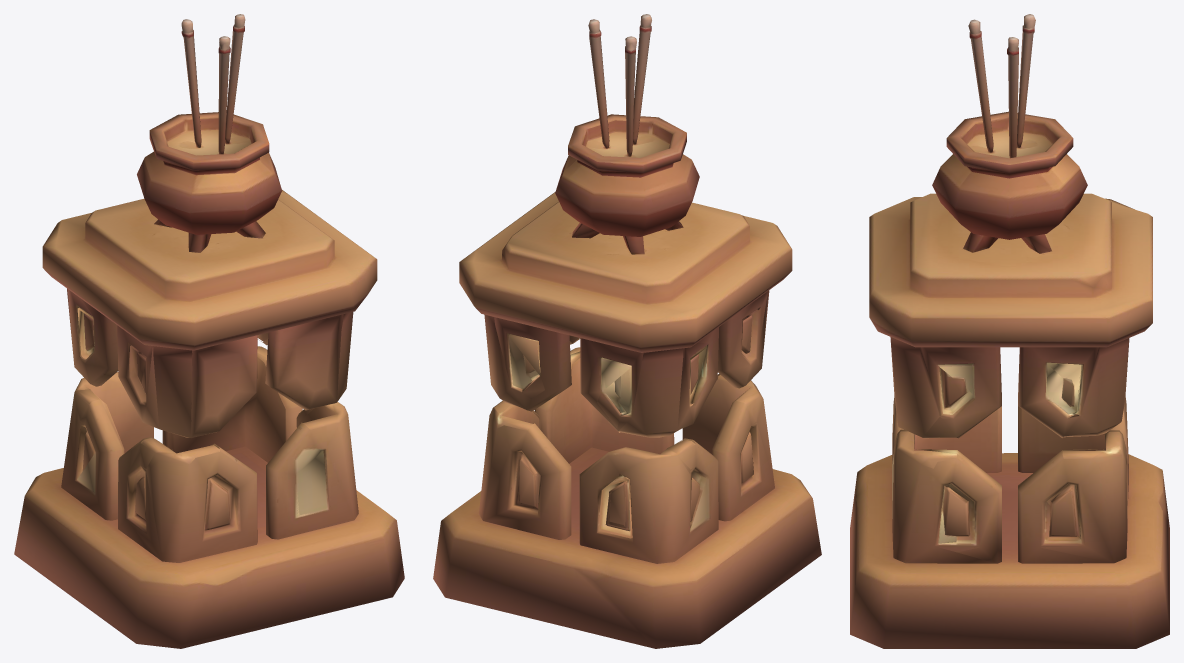
The model's file is shrine_generic.glb.
3 views of the same model, side by side, from view 1: azimuth 30°, elevation 25°; view 2: azimuth 150°, elevation 25°; view 3: azimuth 270°, elevation 25° (orthographic). The views are drawn at different scales.
Visible parts, largest first — view 1: tripo_node_eeeadc59-5536-4bd3-9d9a-ca5167ea4b2f; view 2: tripo_node_eeeadc59-5536-4bd3-9d9a-ca5167ea4b2f; view 3: tripo_node_eeeadc59-5536-4bd3-9d9a-ca5167ea4b2f.
Part boxes in pixels (<box>): tripo_node_eeeadc59-5536-4bd3-9d9a-ca5167ea4b2f: <box>14,14,404,648</box>; tripo_node_eeeadc59-5536-4bd3-9d9a-ca5167ea4b2f: <box>433,14,821,648</box>; tripo_node_eeeadc59-5536-4bd3-9d9a-ca5167ea4b2f: <box>850,14,1169,648</box>.
Size of the model in its own units: 0.5176 by 0.998 by 0.5176.
1 material, 1 textured.
